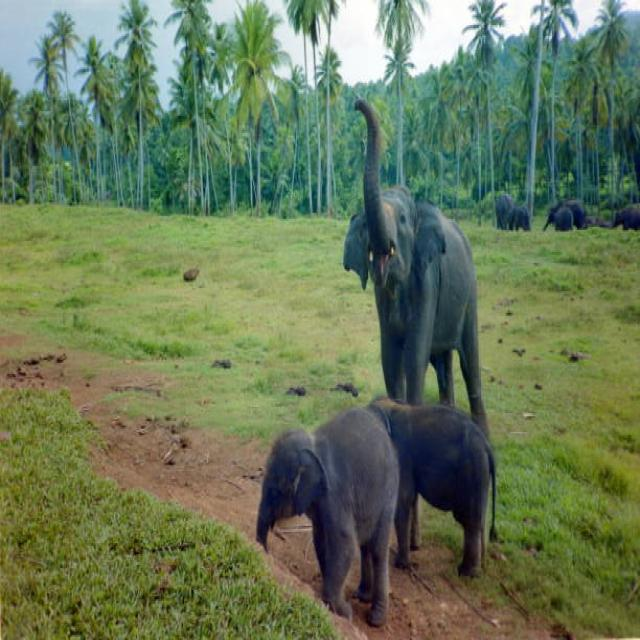Elephant: (338, 94, 497, 400), (255, 404, 394, 613), (397, 369, 504, 588), (547, 188, 588, 232)
